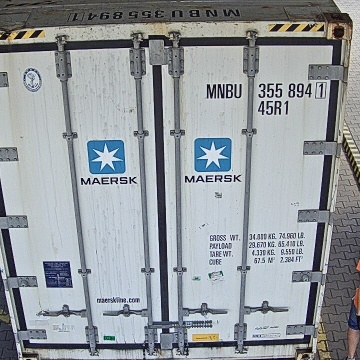serial_id: (207, 82, 327, 98)
